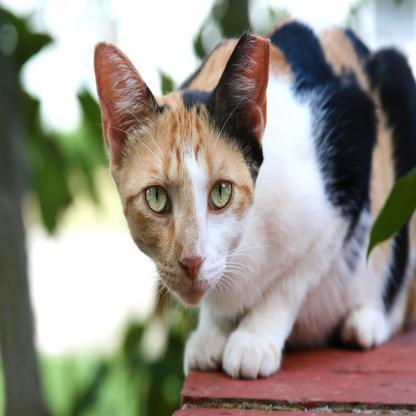cat: (86, 34, 416, 353)
